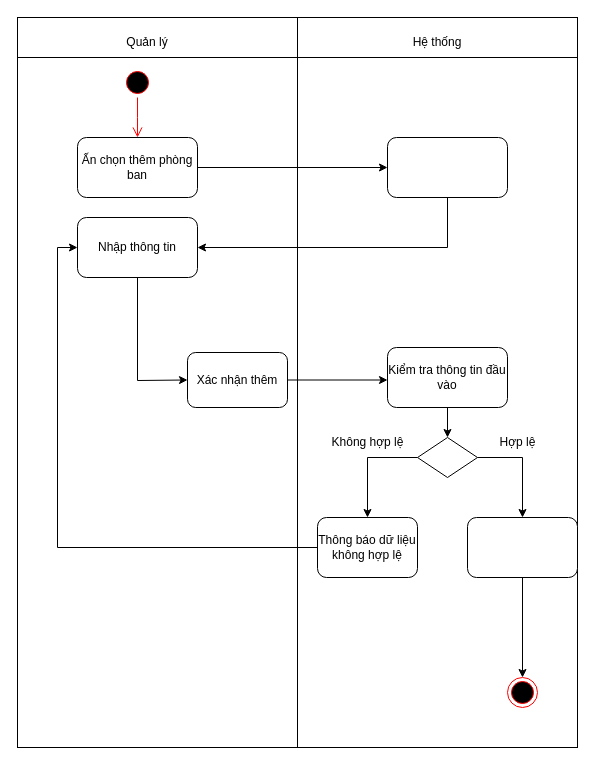
Some shapes in this 595 by 765 pixel diagram are drawn without their labels. Each missing label, with the centre of its shape:
"Hiển thị form thêm phòng ban" goes at (x=447, y=167).
"Thông báo lưu thông tin thành công rồi lưu vào cơ sở dữ liệu" goes at (x=522, y=547).
